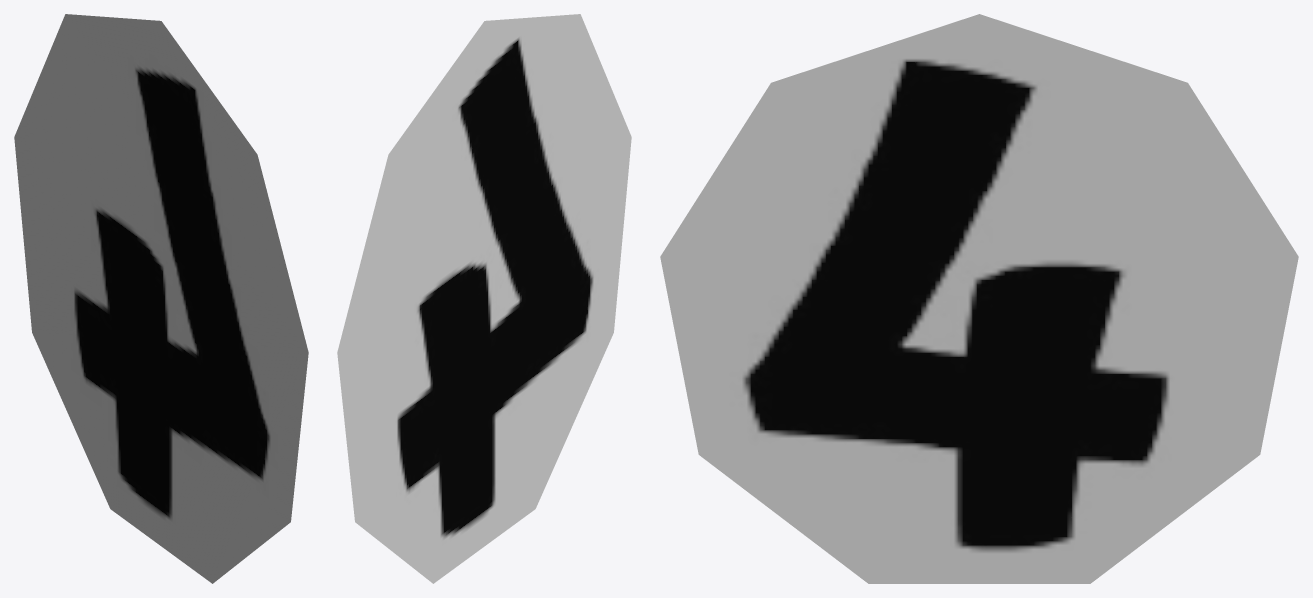
3 views of the same model, side by side, from view 1: azimuth 30°, elevation 25°; view 2: azimuth 150°, elevation 25°; view 3: azimuth 270°, elevation 25° (orthographic). The views are drawn at different scales.
Visible parts, largest first — view 1: one; view 2: one; view 3: one.
Part boxes in pixels (<box>): one: <box>14,14,308,583</box>; one: <box>337,14,631,583</box>; one: <box>660,14,1298,583</box>.
Bounding box in the file's own units: 1.07e-08 × 0.2459 × 0.2497.
1 material, 1 textured.
